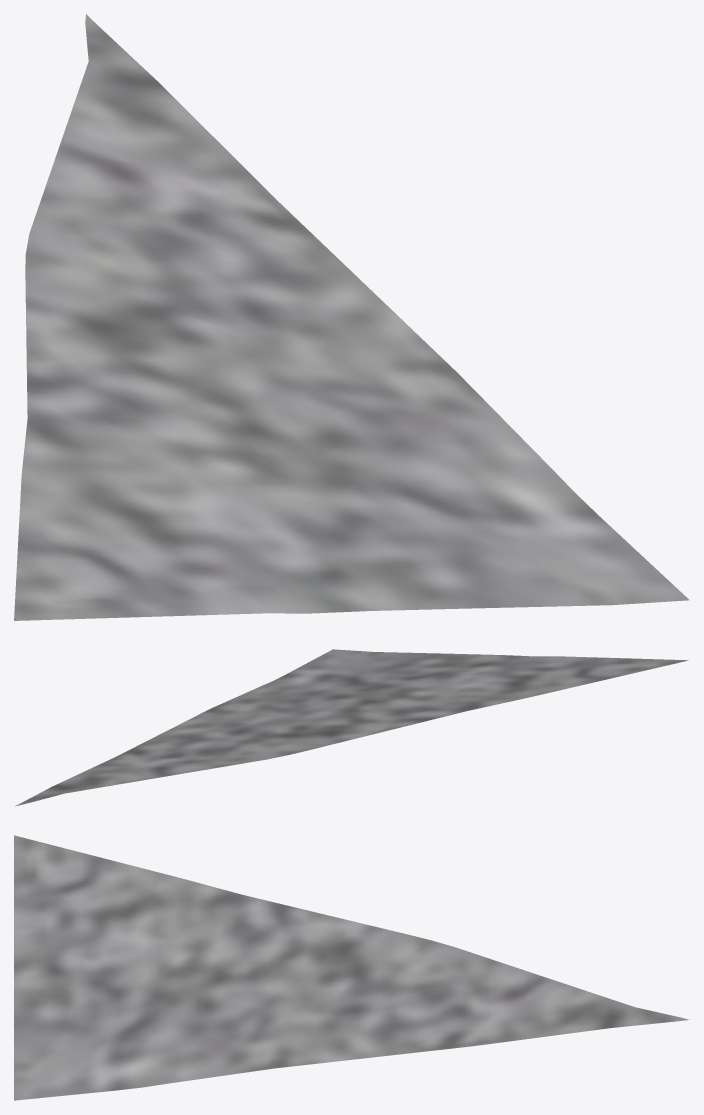
3 views of the same model, one above another, from view 1: azimuth 30°, elevation 25°; view 2: azimuth 150°, elevation 25°; view 3: azimuth 270°, elevation 25° (orthographic). The views are drawn at different scales.
Size of the model in its own units: 0.6011 by 0.1226 by 0.9301.
Materials: 1 (1 with a texture image).
